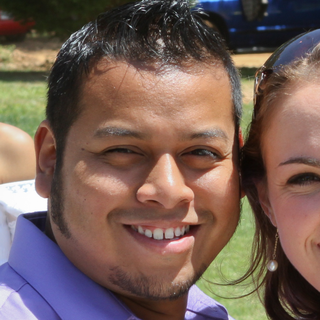eye: (95, 141, 147, 164), (177, 143, 222, 166), (288, 167, 320, 191)
